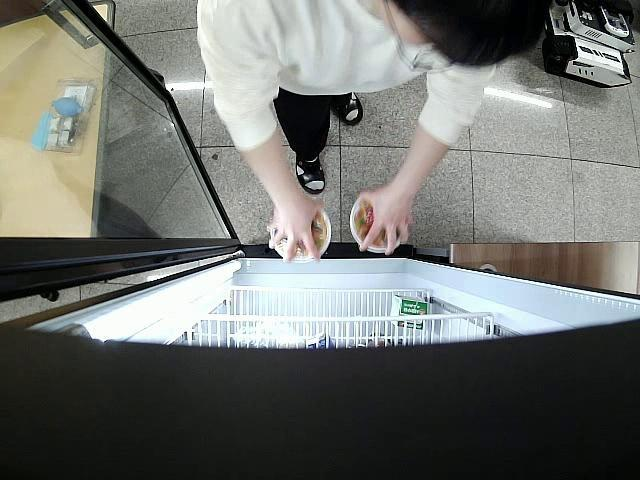09_yukGaeJang: (270, 211, 333, 264), (351, 195, 405, 252)
